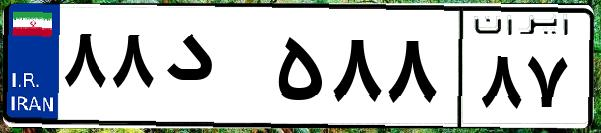5: (270, 28, 330, 110)
7: (525, 38, 570, 115)
8: (385, 28, 445, 110), (330, 28, 385, 110), (57, 26, 110, 100), (475, 38, 525, 113), (110, 28, 158, 98)
د: (158, 20, 270, 120)
